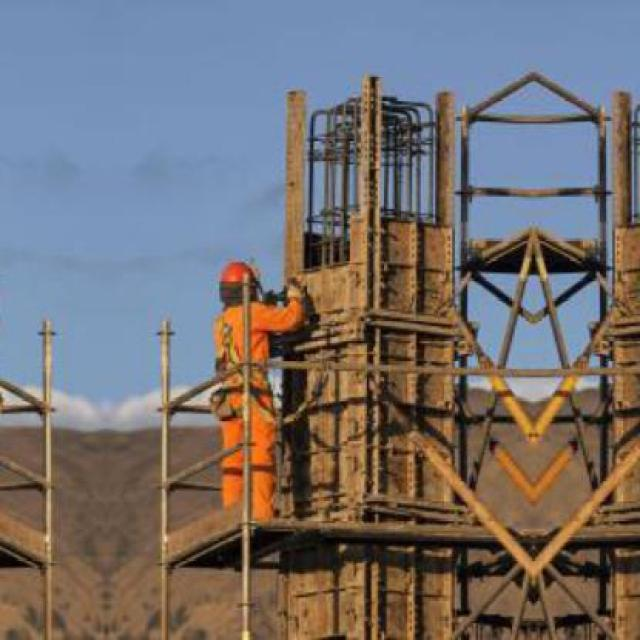helmet: (210, 258, 260, 305)
